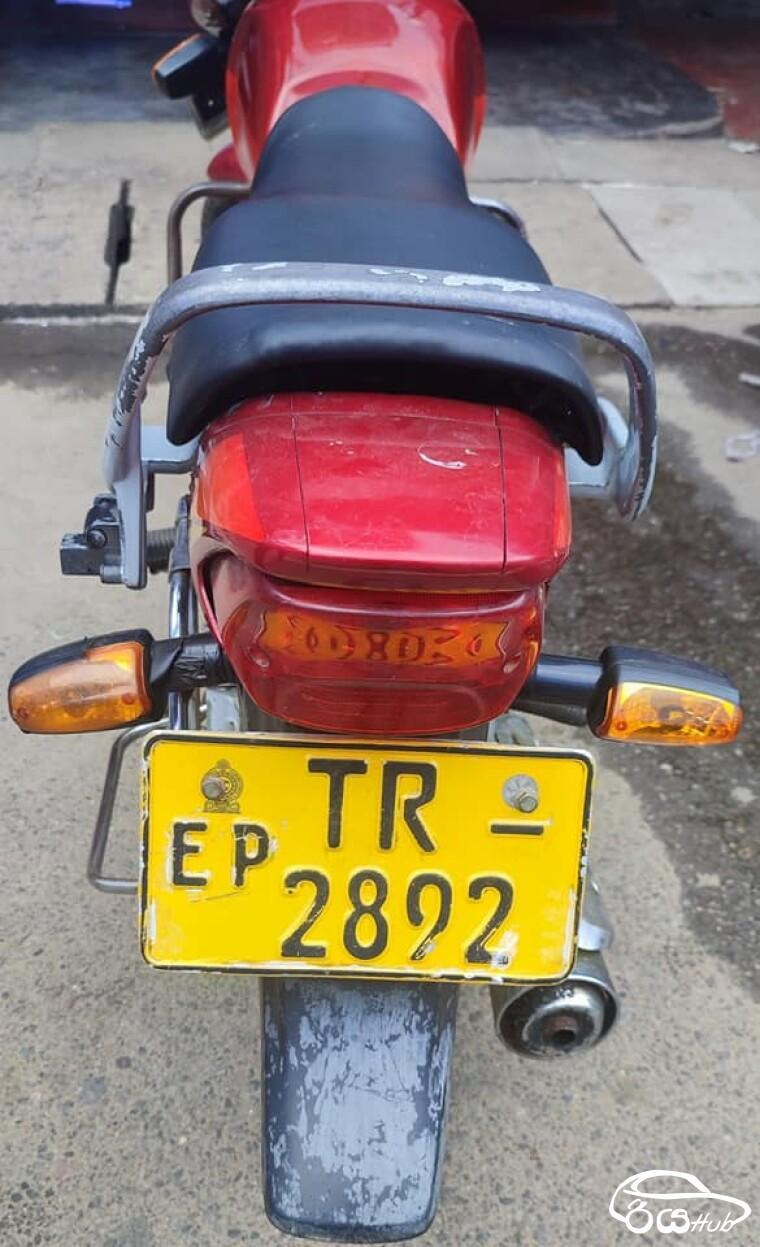motorbike: (10, 7, 746, 1239)
